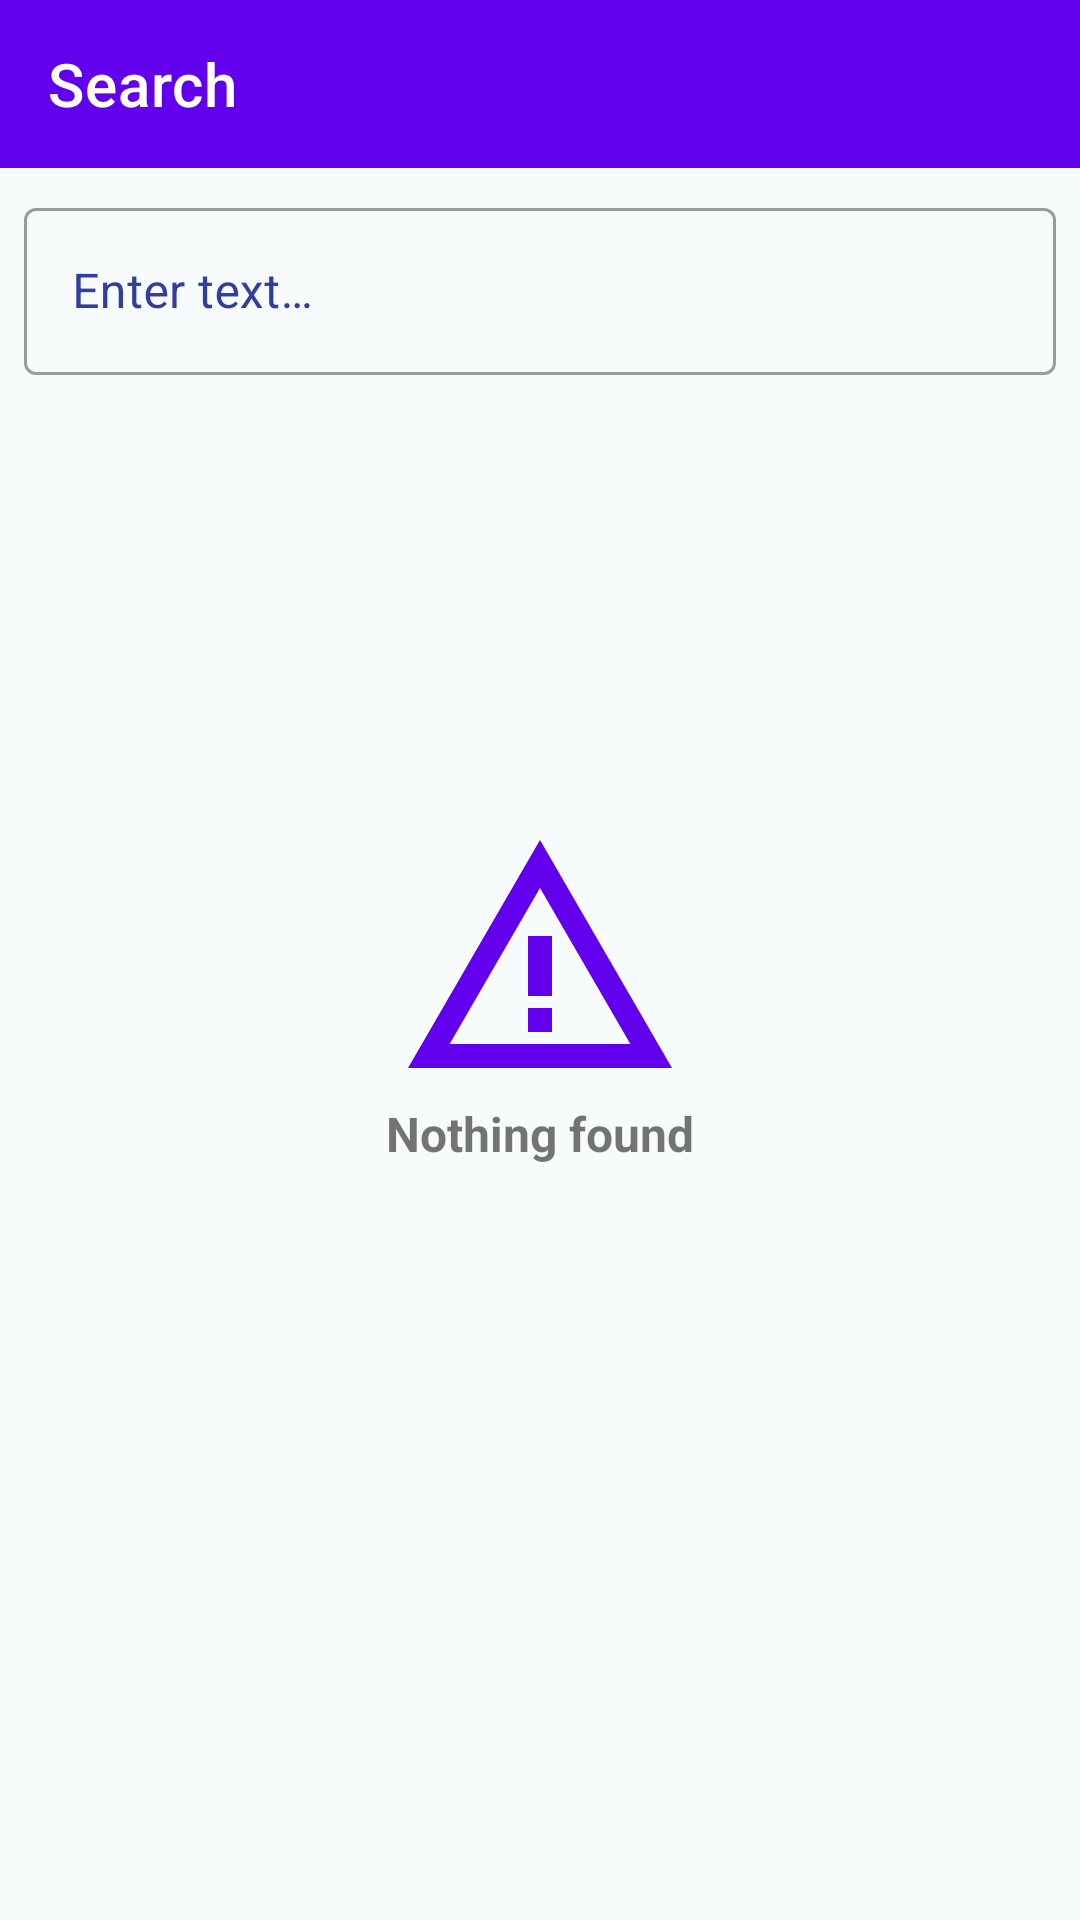

Icon click points for this 1080 × 1920 phone screenshot, format point (x, y):
warning amber: point (540, 954)
